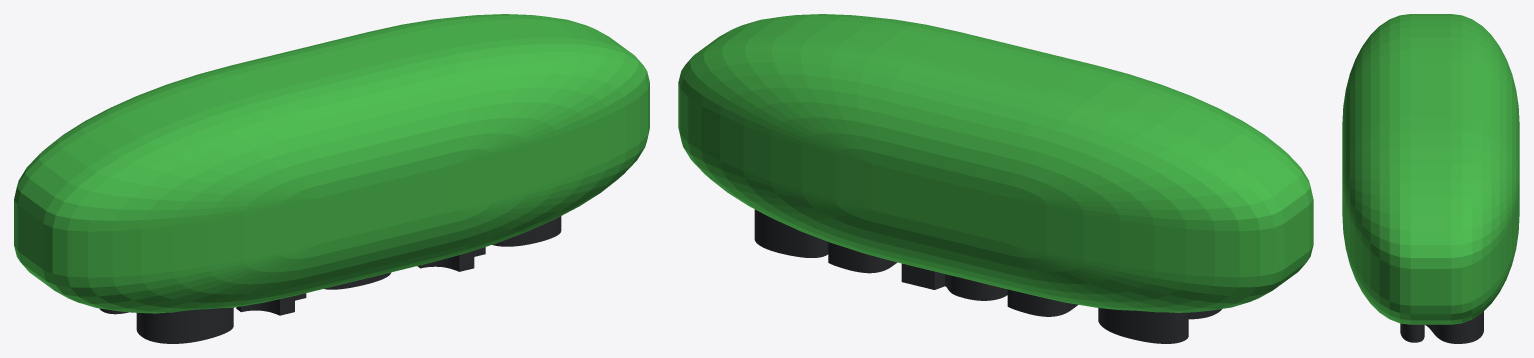
Rendered from tinker.obj.
3 views of the same model, side by side, from view 1: azimuth 30°, elevation 25°; view 2: azimuth 150°, elevation 25°; view 3: azimuth 270°, elevation 25° (orthographic). The views are drawn at different scales.
Visible parts, largest first — view 1: group_0_4634441, group_0_2829873; view 2: group_0_4634441, group_0_2829873; view 3: group_0_4634441, group_0_2829873.
Part boxes in pixels (box(x1,y1,x2,y2)): group_0_4634441: box(14, 14, 649, 313); group_0_2829873: box(99, 216, 561, 343); group_0_4634441: box(678, 14, 1313, 312); group_0_2829873: box(754, 209, 1221, 343); group_0_4634441: box(1342, 14, 1519, 324); group_0_2829873: box(1400, 311, 1483, 343).
Bounding box in the file's own units: 63 × 21 × 20.
